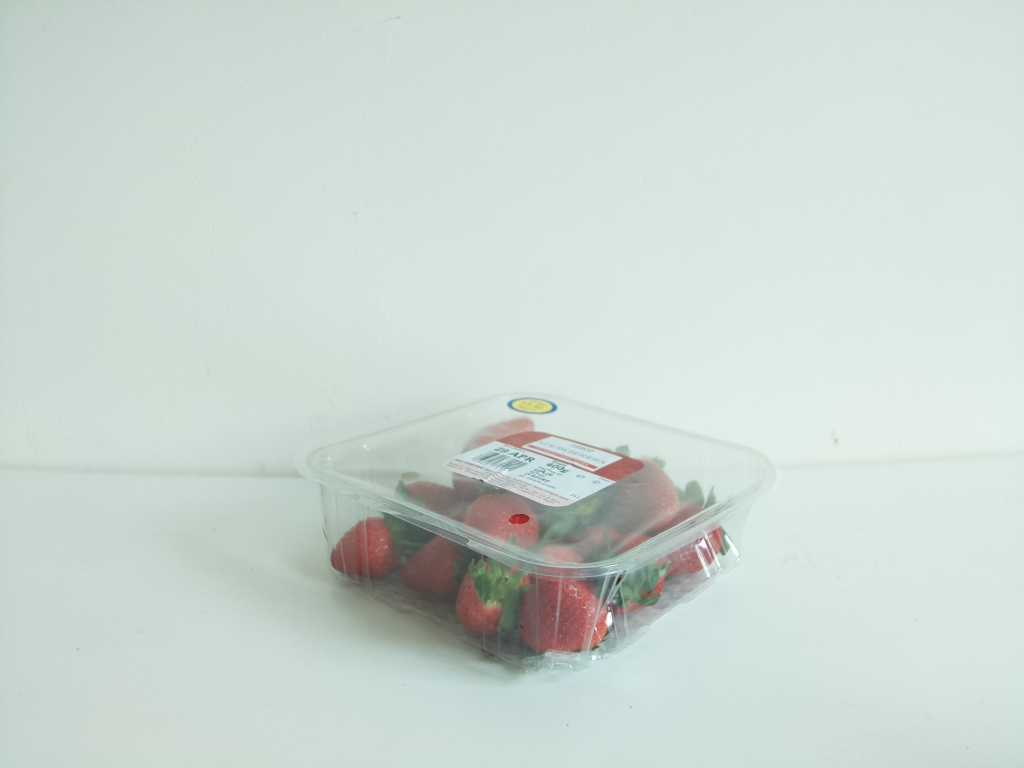soft-fruit: (296, 384, 775, 675)
